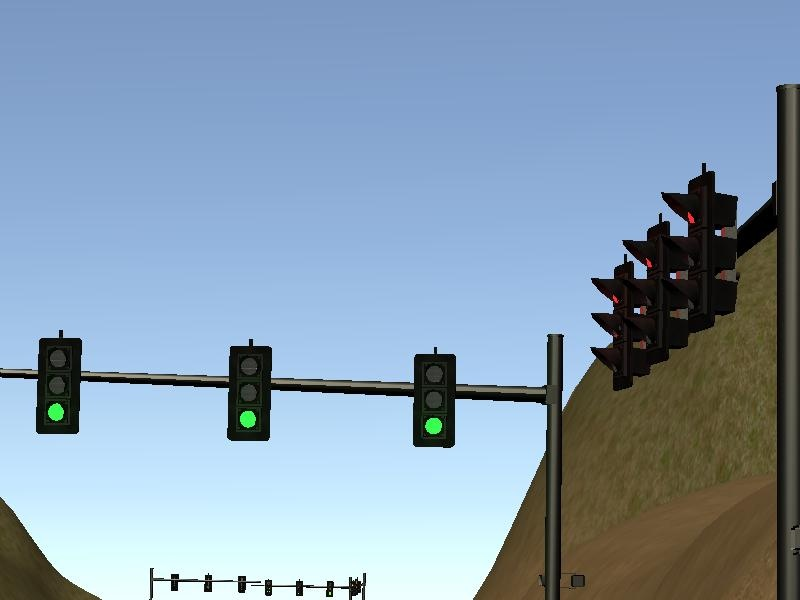green: (407, 347, 467, 452), (226, 342, 280, 452), (34, 329, 83, 440)
